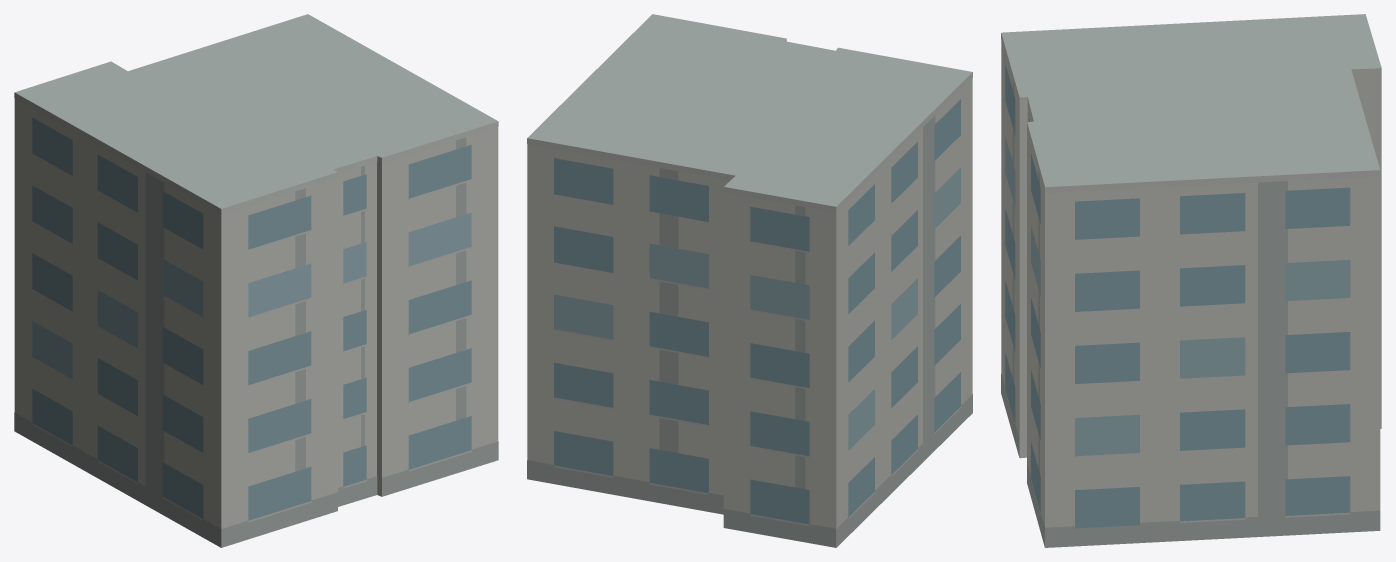
The model's file is survey-upis-32709185.glb.
3 renders of one model, left to right at view 1: azimuth 30°, elevation 25°; view 2: azimuth 150°, elevation 25°; view 3: azimuth 270°, elevation 25°, orthographic. The views are drawn at different scales.
Parts seen in each view (by area): view 1: survey-upis-32709185.tmp; view 2: survey-upis-32709185.tmp; view 3: survey-upis-32709185.tmp.
Part boxes in pixels (x1,y1,x2,y2): survey-upis-32709185.tmp: (14, 14, 498, 547); survey-upis-32709185.tmp: (527, 14, 972, 547); survey-upis-32709185.tmp: (1001, 14, 1381, 547).
Bounding box in the file's own units: 14.42 × 14 × 13.4.
